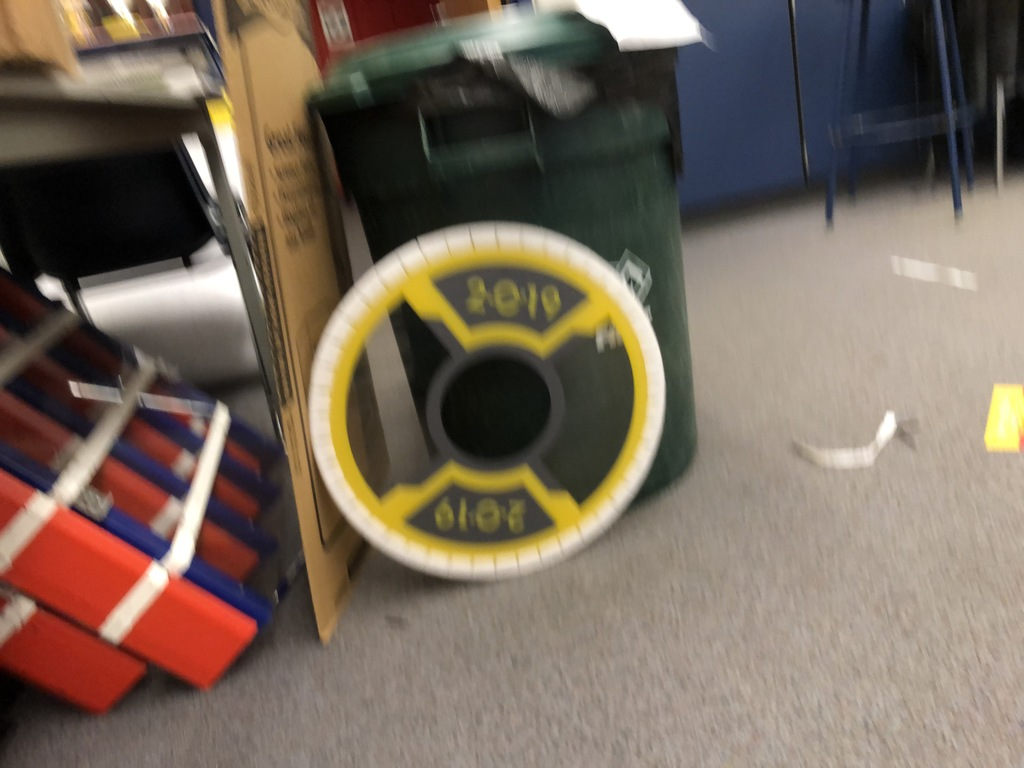hatch_panel: (299, 211, 675, 593)
